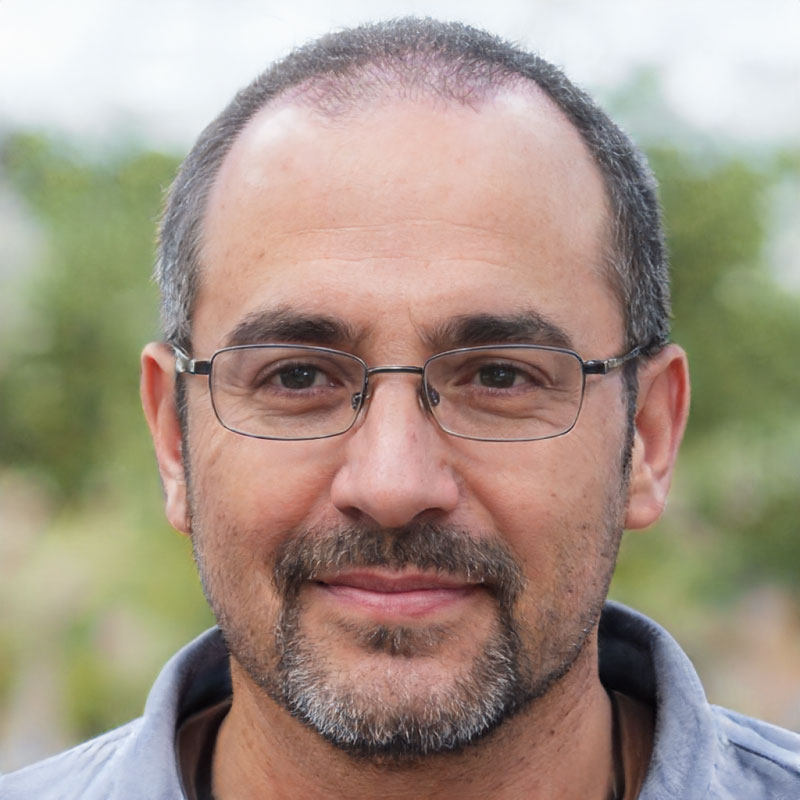without_mask: (179, 88, 629, 719)
